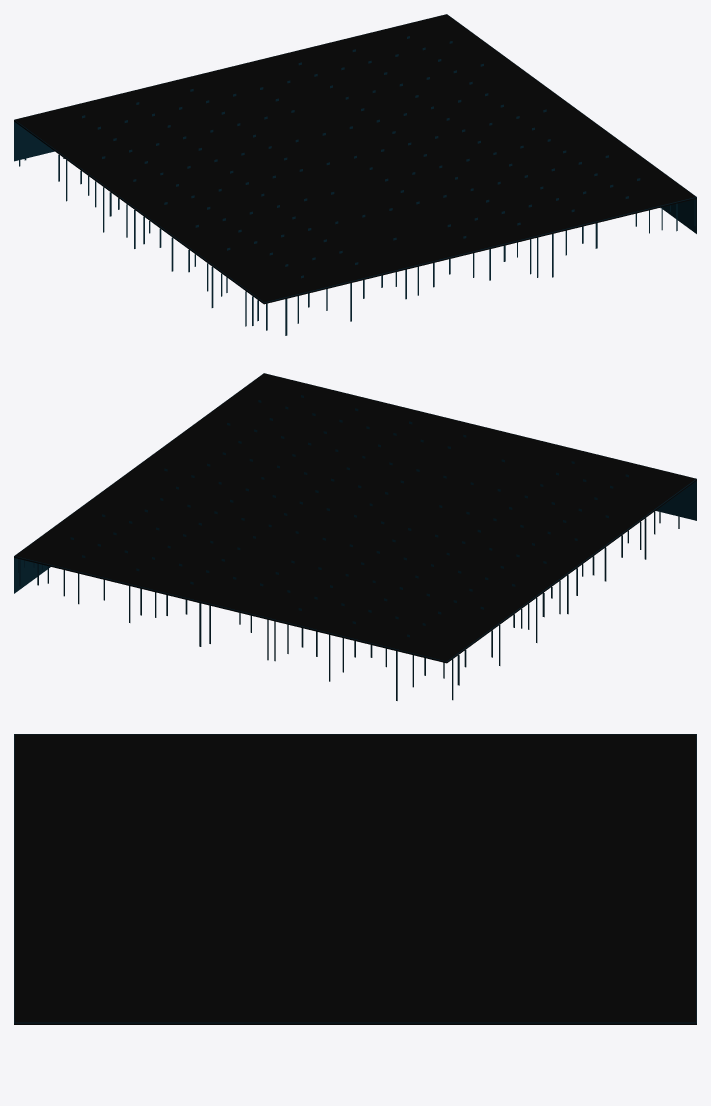
The model's file is floor_slab_8.glb.
The picture shows the model from 3 angles, top to bottom: view 1: azimuth 30°, elevation 25°; view 2: azimuth 150°, elevation 25°; view 3: azimuth 270°, elevation 25°; orthographic projection. The views are drawn at different scales.
Visible parts, largest first — view 1: slab, floor_slab_streaks_hang, slab_seams, floor_slab_skirt; view 2: slab, floor_slab_streaks_hang, slab_seams, floor_slab_skirt; view 3: slab.
Boxes of the visible parts, bbox=[...] form: slab: bbox=[14, 14, 696, 304]; floor_slab_streaks_hang: bbox=[16, 123, 695, 335]; slab_seams: bbox=[82, 36, 640, 278]; floor_slab_skirt: bbox=[14, 121, 696, 233]; slab: bbox=[14, 373, 696, 663]; floor_slab_streaks_hang: bbox=[18, 482, 694, 700]; slab_seams: bbox=[70, 395, 628, 637]; floor_slab_skirt: bbox=[14, 481, 696, 593]; slab: bbox=[14, 734, 696, 1024].
Size of the model in its own units: 8.03 by 0.9511 by 8.
